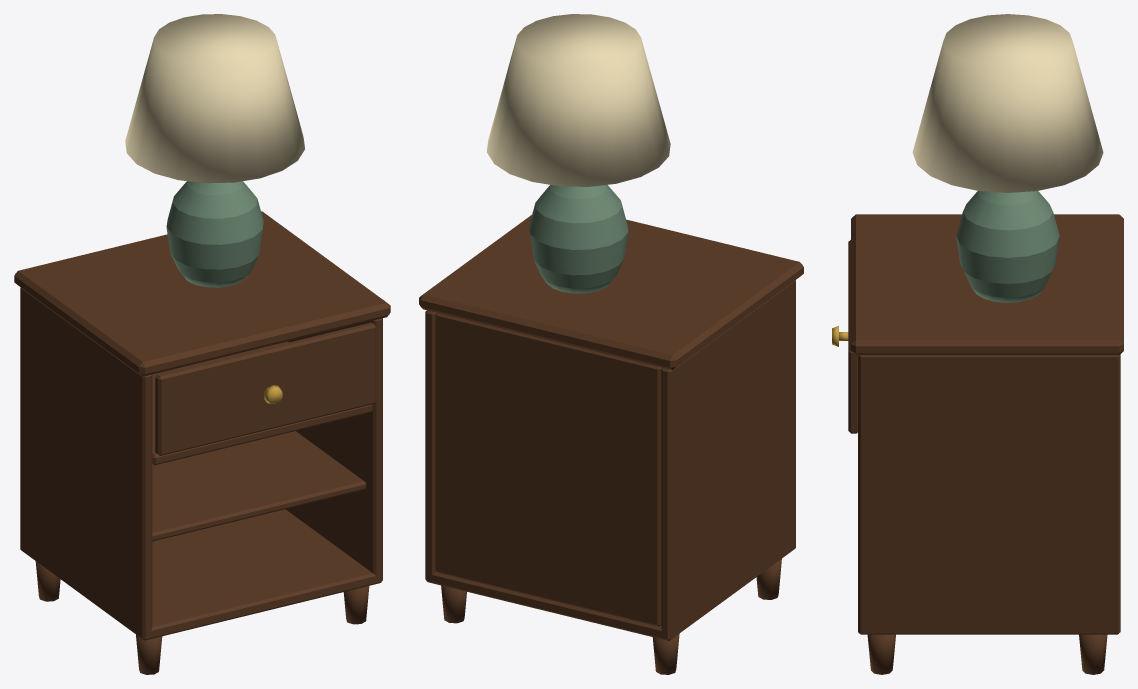
File: CriadoMudo.fbx
3 renders of one model, left to right at view 1: azimuth 30°, elevation 25°; view 2: azimuth 150°, elevation 25°; view 3: azimuth 270°, elevation 25°, orthographic. The views are drawn at different scales.
Parts seen in each view (by area): view 1: CriadoMudo; view 2: CriadoMudo; view 3: CriadoMudo.
Part boxes in pixels (box(x1,y1,x2,y2)): CriadoMudo: box(14, 14, 390, 674); CriadoMudo: box(419, 14, 803, 674); CriadoMudo: box(832, 14, 1123, 674).
Bounding box in the file's own units: 0.45 × 0.95 × 0.428.
